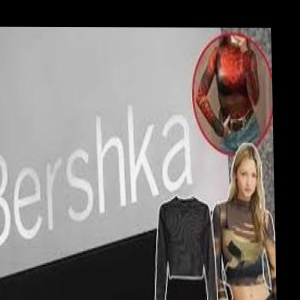bershka: (65, 151, 275, 211)
